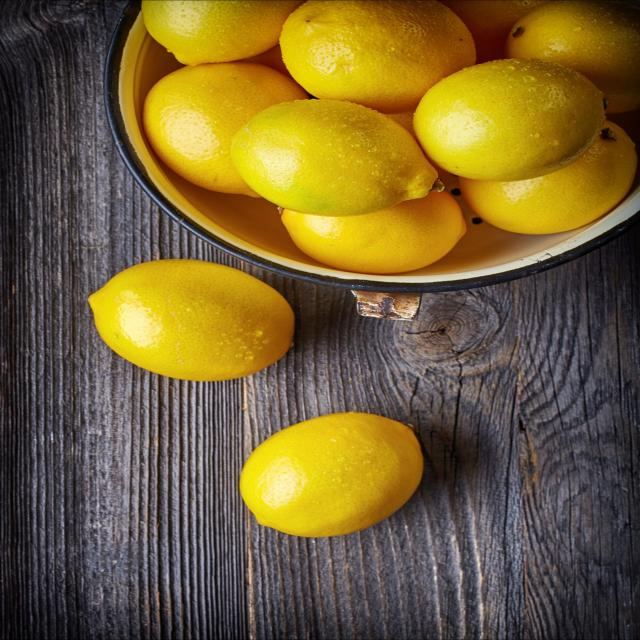lemon: (227, 97, 447, 218), (408, 56, 611, 186)
